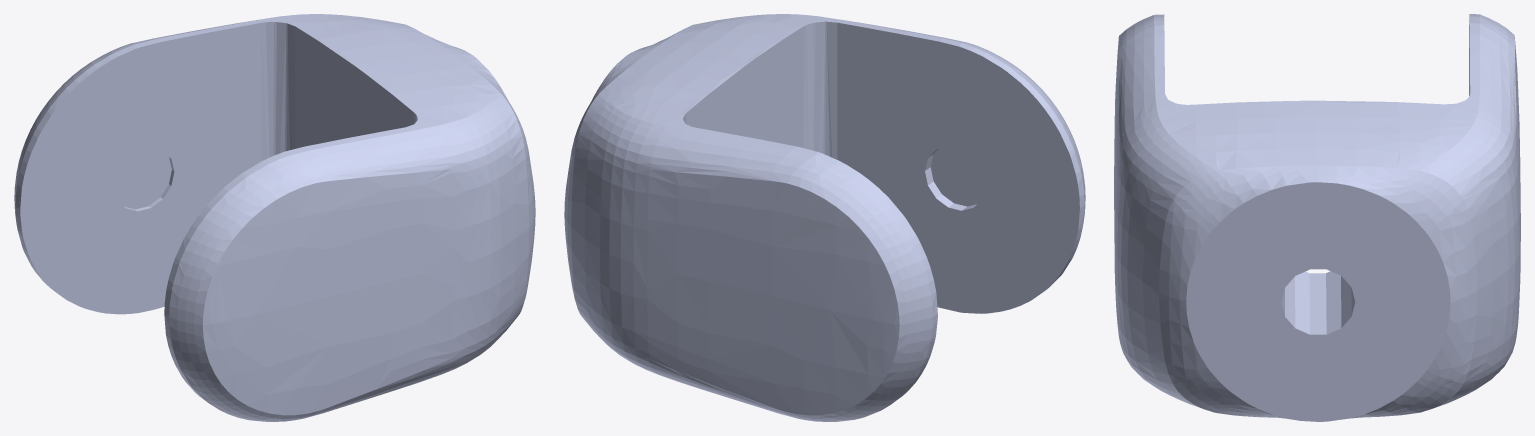
Rendered from left_wrist_yaw_link.dae.
3 views of the same model, side by side, from view 1: azimuth 30°, elevation 25°; view 2: azimuth 150°, elevation 25°; view 3: azimuth 270°, elevation 25° (orthographic). The views are drawn at different scales.
Parts seen in each view (by area): view 1: node; view 2: node; view 3: node.
Boxes of the visible parts, x1,y1,x2,y2 form: node: [14, 14, 535, 421]; node: [564, 14, 1085, 421]; node: [1114, 14, 1520, 421].
Size of the model in its own units: 0.0892 by 0.0592 by 0.0769.
